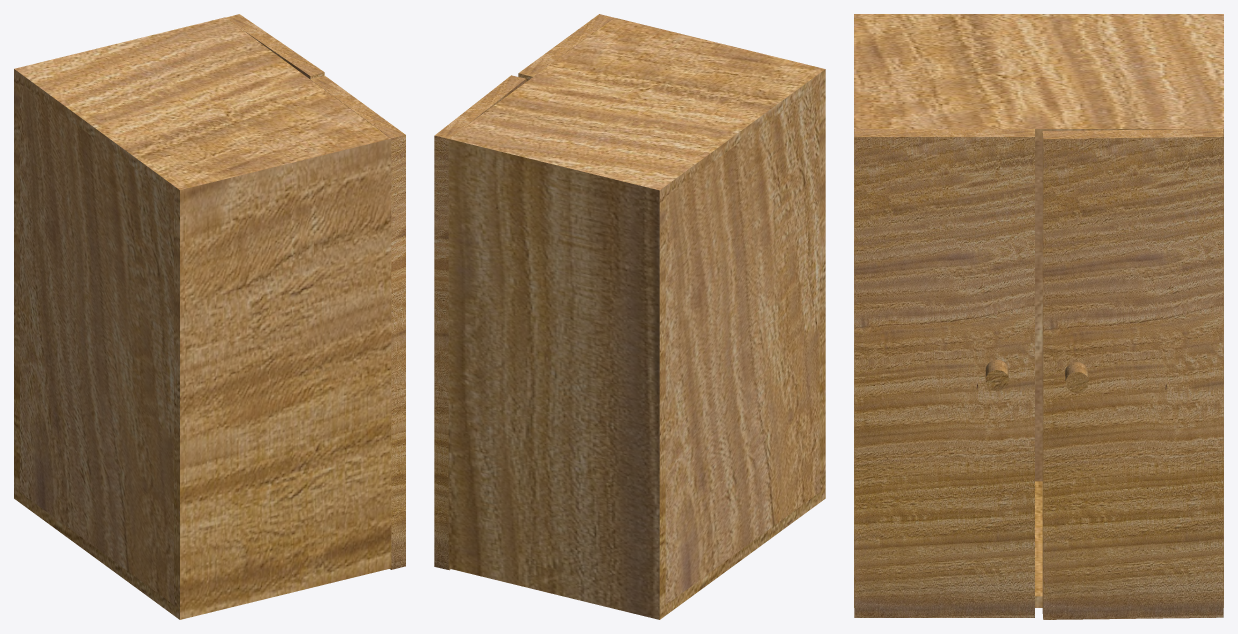
The model's file is Wardrobe3DSMax.fbx.
3 renders of one model, left to right at view 1: azimuth 30°, elevation 25°; view 2: azimuth 150°, elevation 25°; view 3: azimuth 270°, elevation 25°, orthographic. The views are drawn at different scales.
Visible parts, largest first — view 1: Cube, Cube.001, Cube.002; view 2: Cube, Cube.002, Cube.001; view 3: Cube.002, Cube.001, Cube.
Boxes of the visible parts, x1,y1,x2,y2 form: Cube: [14, 17, 391, 619]; Cube.001: [310, 75, 405, 569]; Cube.002: [226, 14, 324, 78]; Cube: [448, 17, 825, 619]; Cube.002: [434, 75, 526, 570]; Cube.001: [518, 14, 613, 81]; Cube.002: [1042, 129, 1223, 619]; Cube.001: [854, 129, 1034, 617]; Cube: [854, 14, 1223, 607].
Bounding box in the file's own units: 348 × 299 × 500.
Materials: 1 (1 with a texture image).
